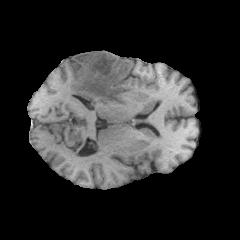glioma: (71, 52, 132, 105)
